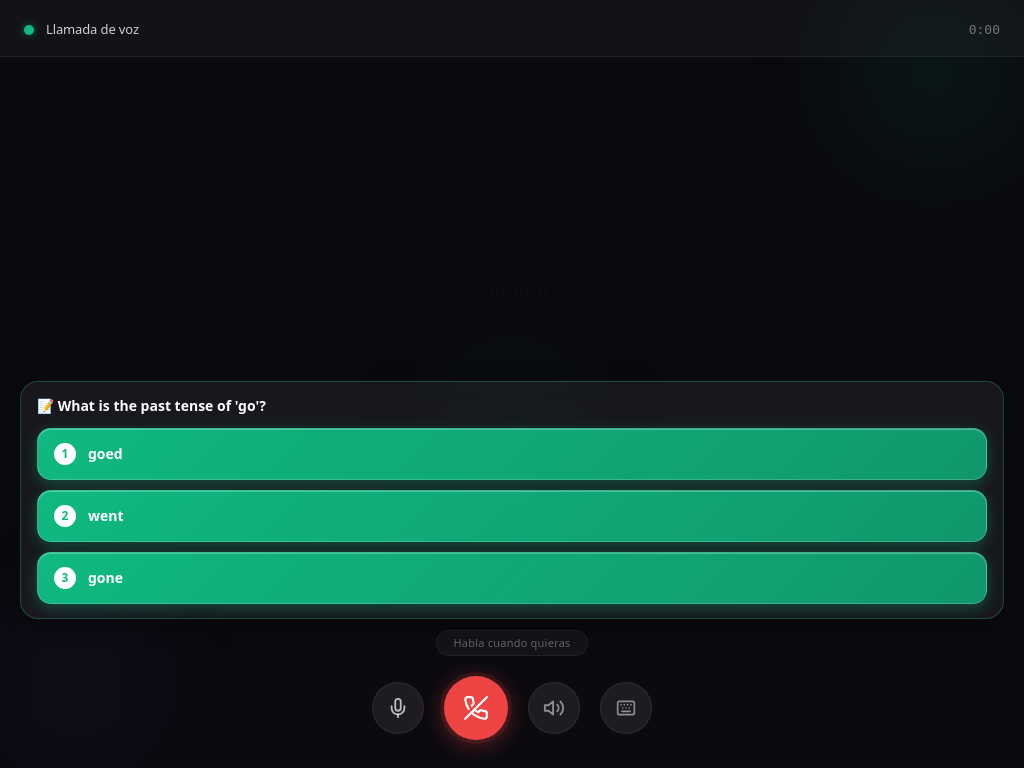
it: VoiceCallOverlay — interactive quiz › removes the buttons and shows the answer as a user turn after clicking
The image size is (1024, 768).
Click the text "went". click: coordinates (106, 516)
box: [88,506,124,525]
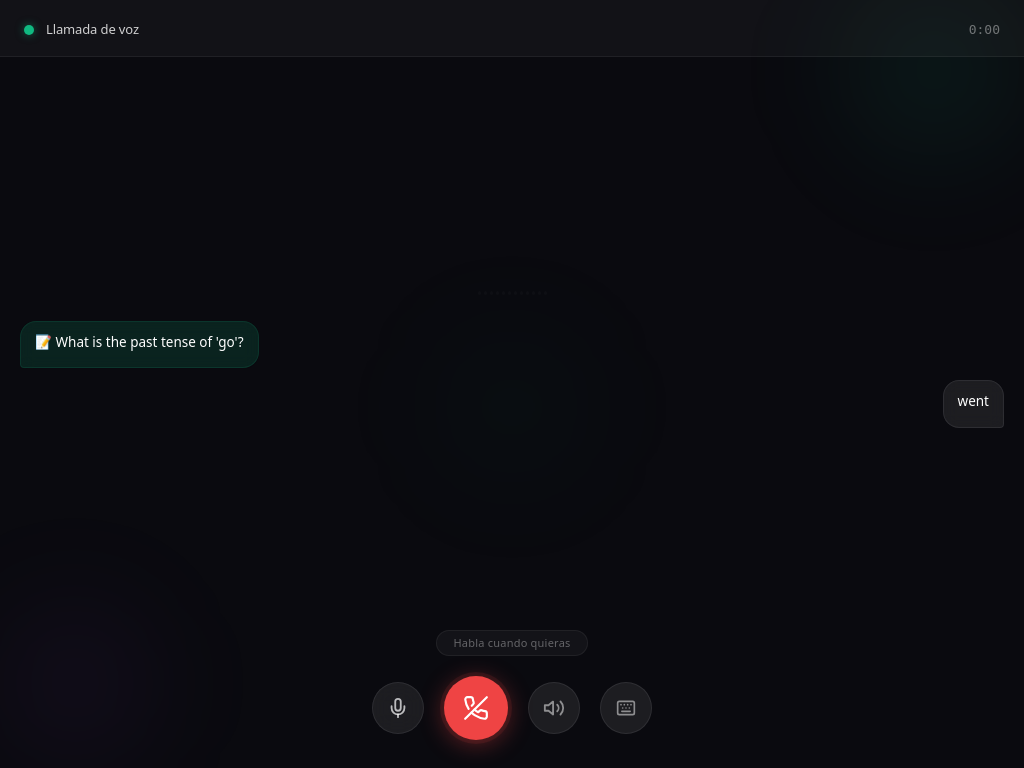
Expected: the text "went" is shown, [958,391,989,413]
Expected: the button "goed" is gone
Expected: the button "gone" is gone
